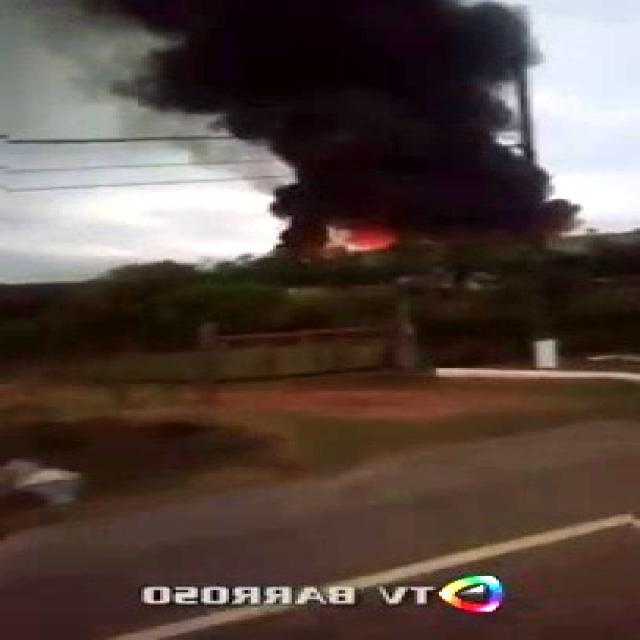Smoke: (119, 0, 580, 261)
